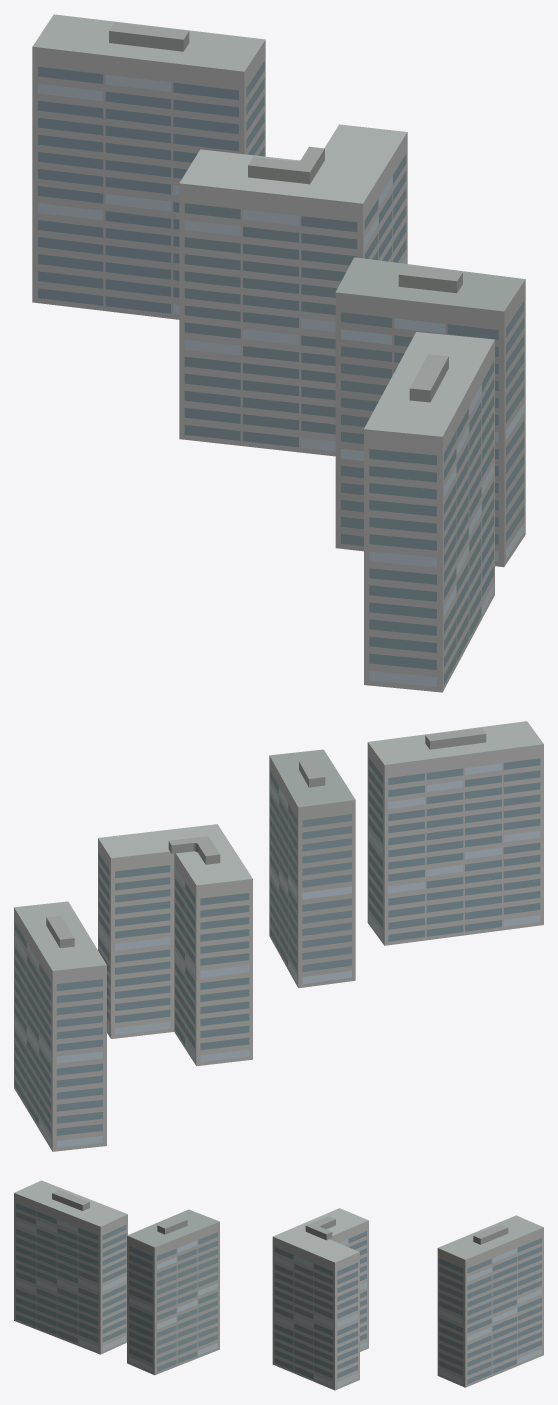
File: apt-a10026039.glb
3 views of the same model, one above another, from view 1: azimuth 30°, elevation 25°; view 2: azimuth 150°, elevation 25°; view 3: azimuth 270°, elevation 25° (orthographic). The views are drawn at different scales.
Visible parts, largest first — view 1: apt-a10026039; view 2: apt-a10026039; view 3: apt-a10026039.
Boxes of the visible parts, x1,y1,x2,y2 form: apt-a10026039: [32, 14, 525, 692]; apt-a10026039: [14, 721, 543, 1151]; apt-a10026039: [14, 1180, 543, 1390].
Bounding box in the file's own units: 56.66 × 43 × 154.
